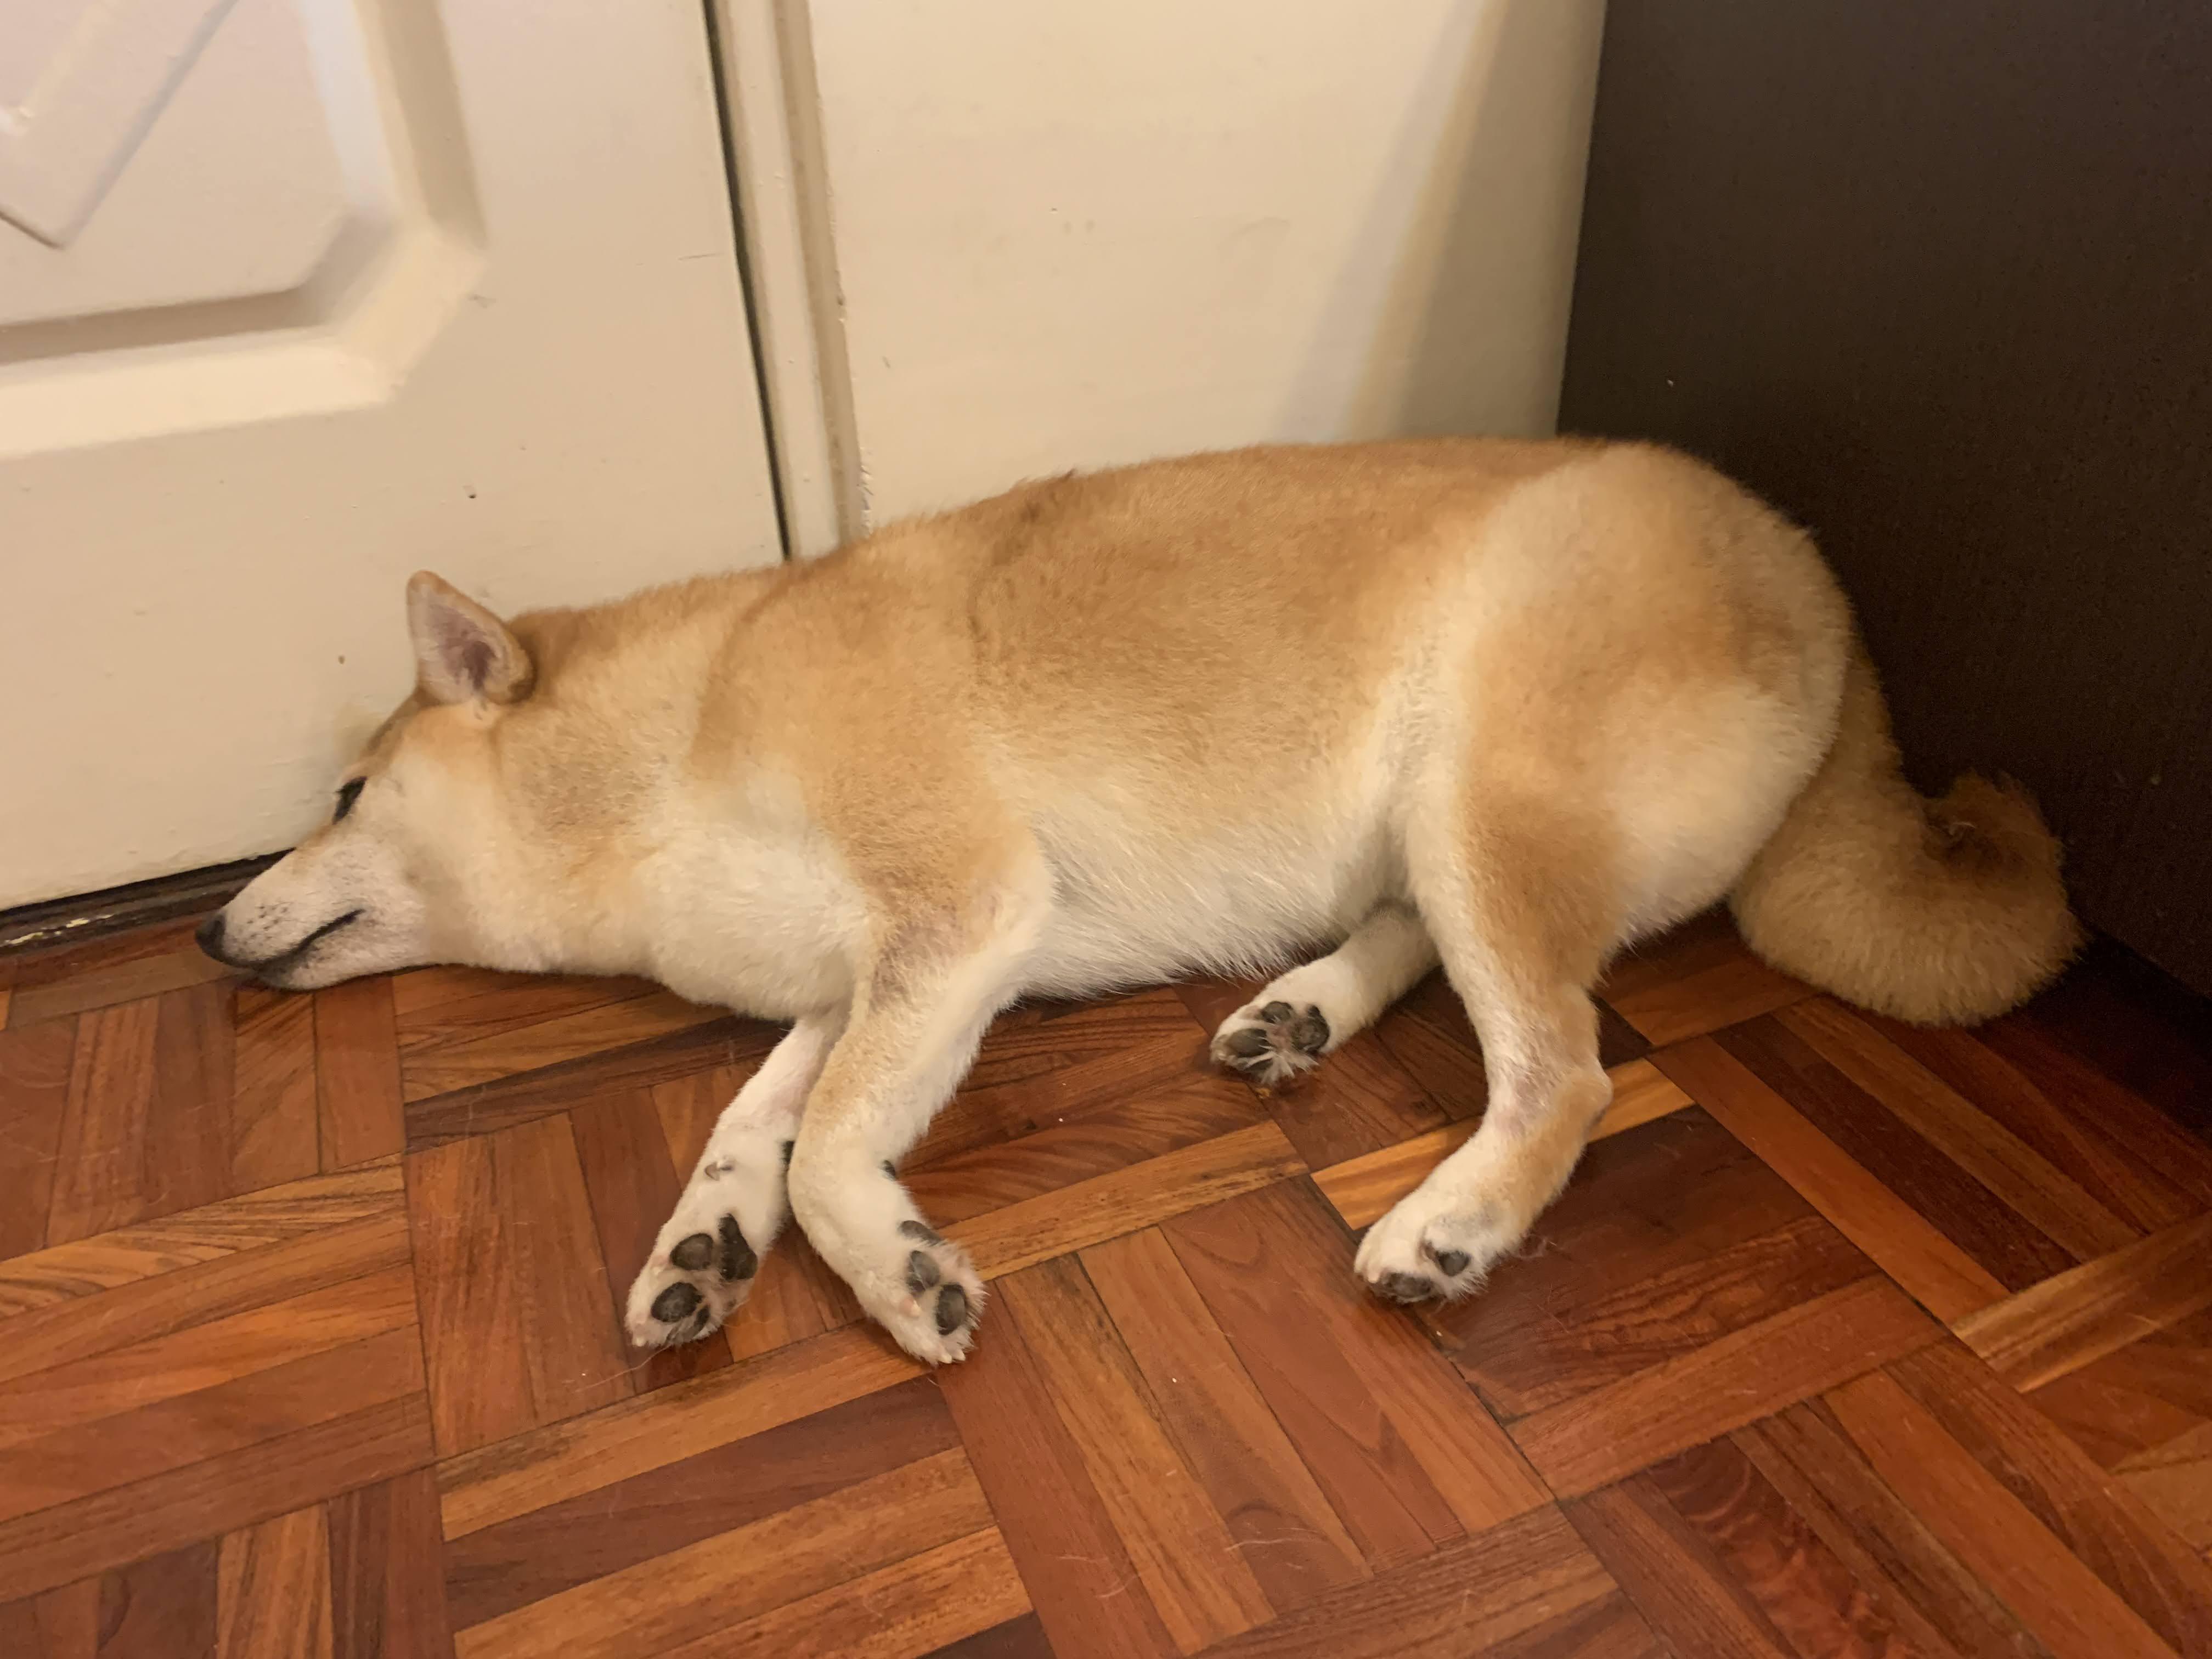Get down: (160, 425, 2142, 1354)
